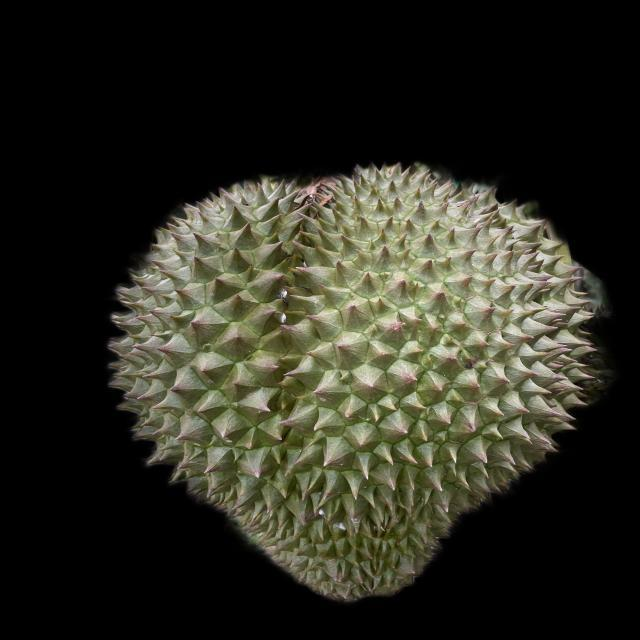immature: (108, 163, 603, 599)
